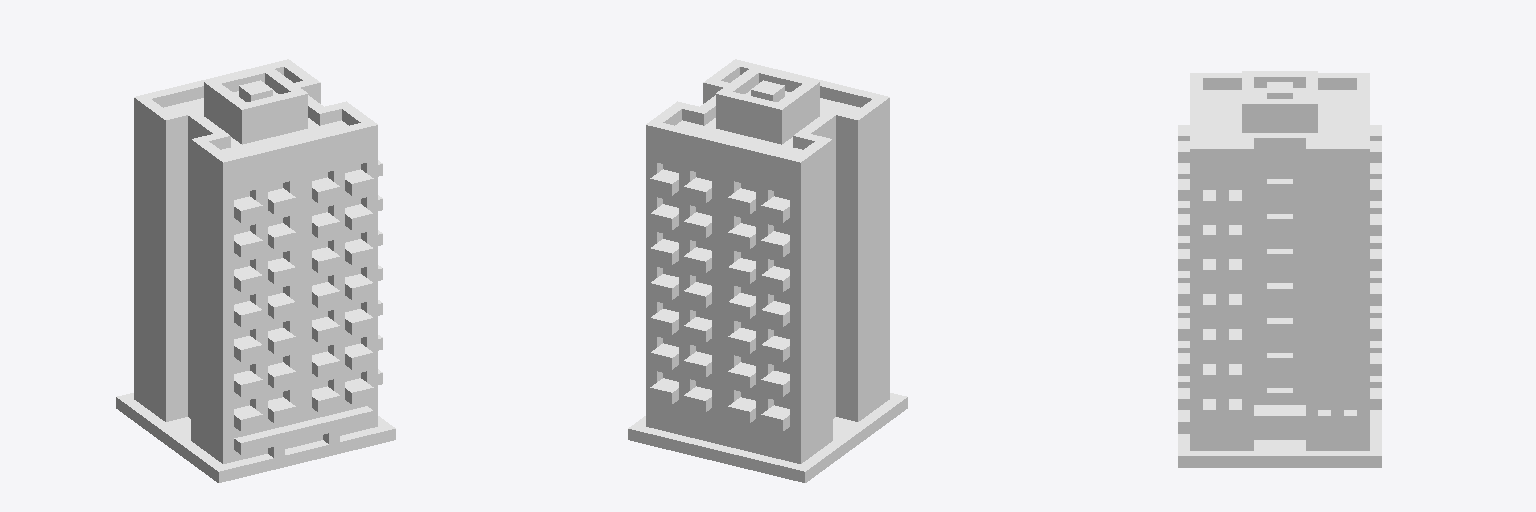
Rendered from House5.obj.
3 views of the same model, side by side, from view 1: azimuth 30°, elevation 25°; view 2: azimuth 150°, elevation 25°; view 3: azimuth 270°, elevation 25° (orthographic).
Bounding box in the file's own units: 16 × 29 × 16.